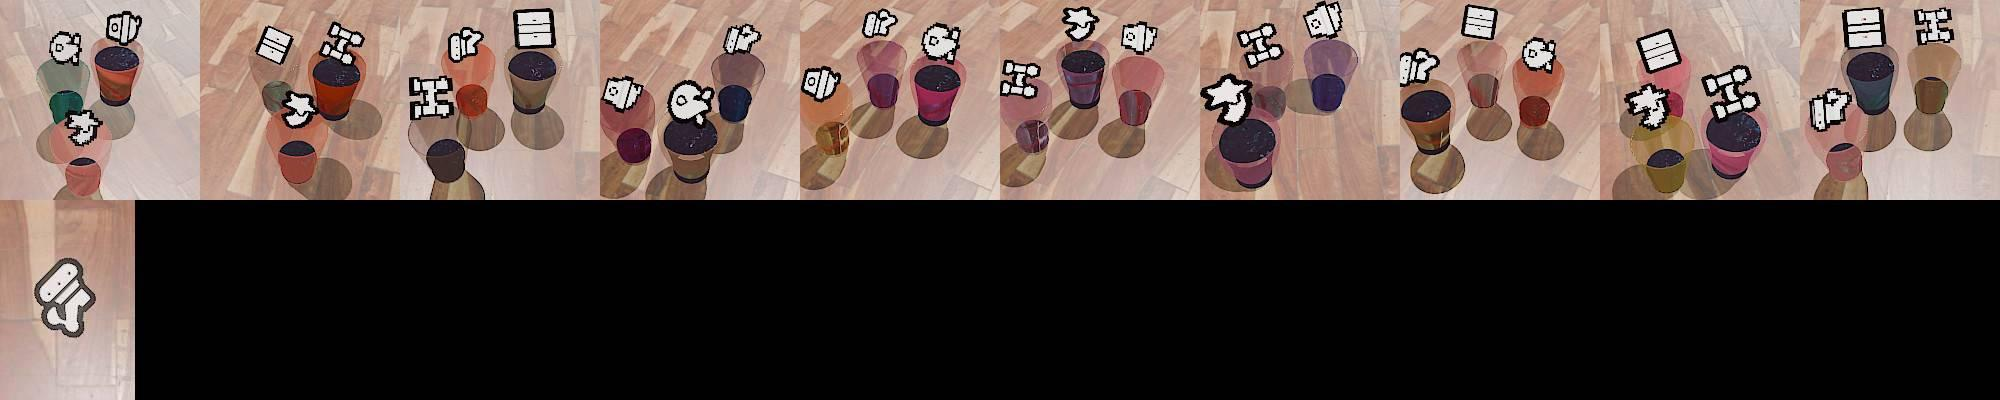icon: (33, 257, 97, 338), (1702, 64, 1760, 122), (1200, 74, 1249, 125), (666, 79, 716, 127), (1625, 82, 1673, 130), (408, 74, 455, 121), (1636, 27, 1682, 74), (1237, 22, 1284, 68), (319, 20, 366, 64), (1809, 87, 1852, 132), (513, 8, 556, 51), (1842, 6, 1885, 50), (601, 74, 645, 113), (999, 59, 1042, 98), (279, 88, 320, 129), (1399, 46, 1440, 87), (255, 24, 293, 68), (920, 22, 960, 61), (1913, 6, 1954, 46), (800, 65, 843, 102), (64, 108, 103, 146), (1304, 1, 1343, 39), (1460, 4, 1499, 42), (446, 25, 485, 64), (1061, 5, 1099, 42), (1519, 36, 1556, 73), (106, 10, 143, 46), (723, 22, 763, 55), (1121, 22, 1158, 56), (861, 8, 901, 39), (50, 29, 83, 66)
